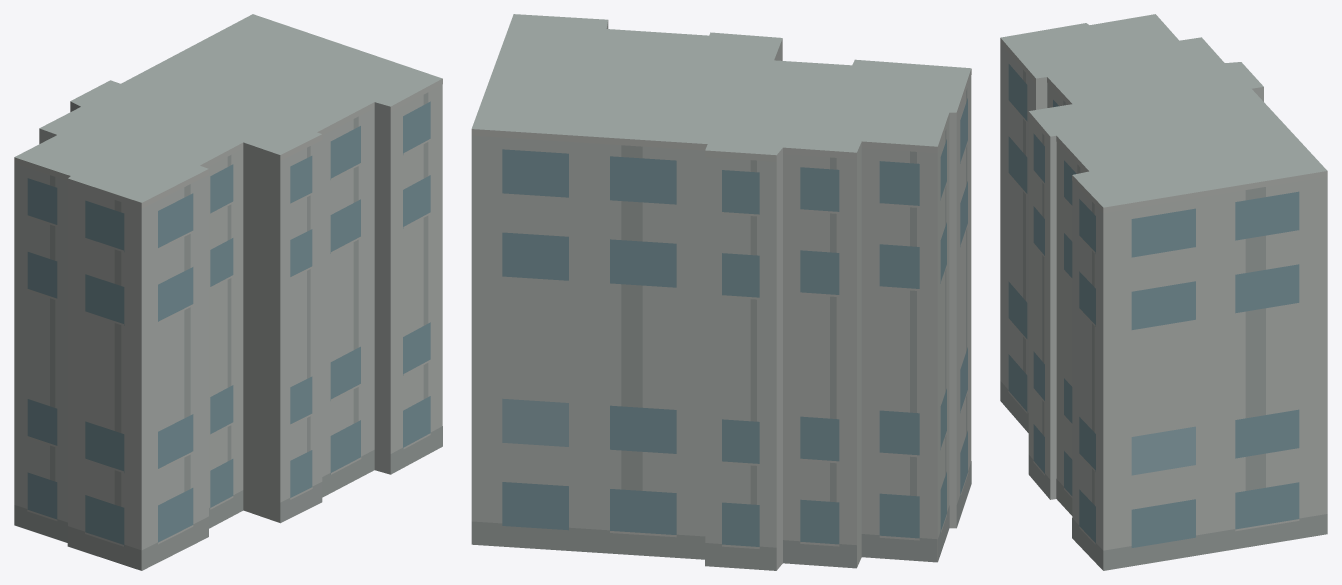
The model's file is survey-upis-32513771.glb.
3 views of the same model, side by side, from view 1: azimuth 30°, elevation 25°; view 2: azimuth 150°, elevation 25°; view 3: azimuth 270°, elevation 25° (orthographic). The views are drawn at different scales.
Parts seen in each view (by area): view 1: survey-upis-32513771.tmp; view 2: survey-upis-32513771.tmp; view 3: survey-upis-32513771.tmp.
Part boxes in pixels (<box>): survey-upis-32513771.tmp: <box>14,14,442,570</box>; survey-upis-32513771.tmp: <box>471,14,971,570</box>; survey-upis-32513771.tmp: <box>1000,14,1327,570</box>.
Bounding box in the file's own units: 17.44 × 15.25 × 12.46.
